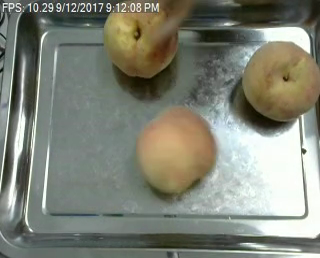Peach: (136, 105, 217, 194), (241, 40, 319, 121), (103, 2, 180, 77)
